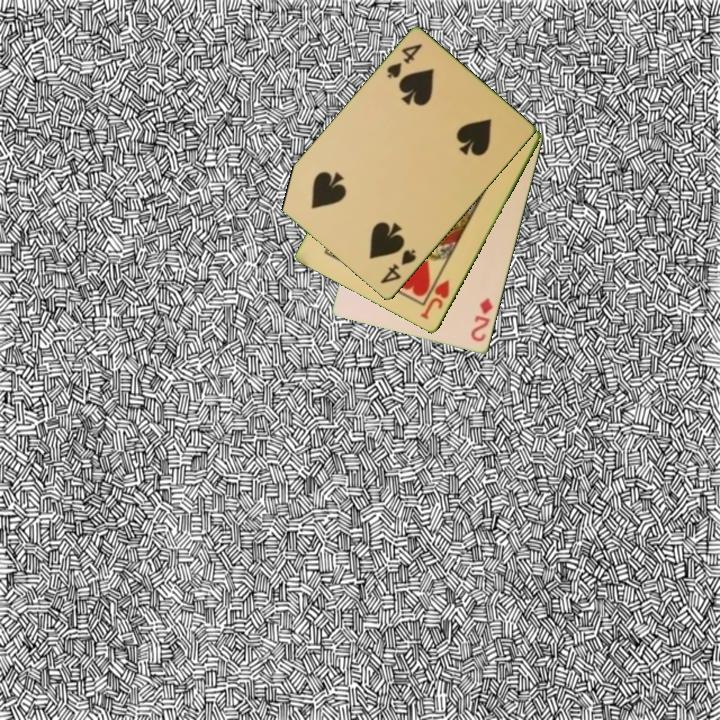2d: (467, 295, 496, 345)
4s: (376, 246, 419, 287), (383, 41, 425, 82)
Jh: (417, 276, 453, 323)
